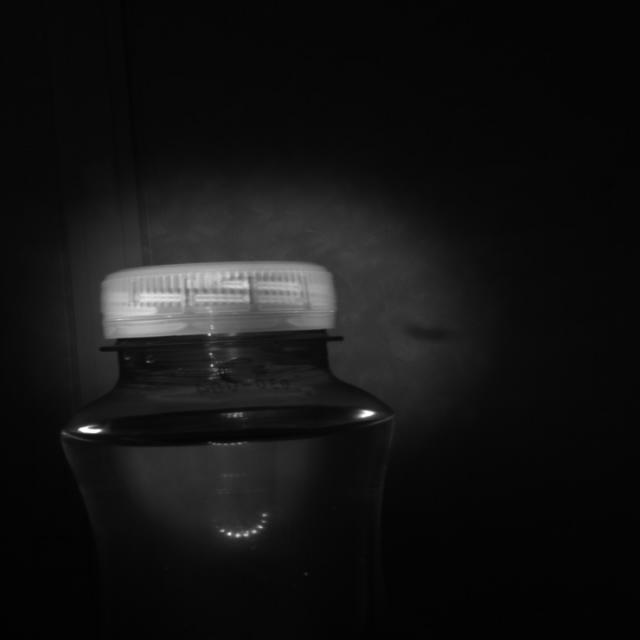Good: (97, 258, 342, 345)
